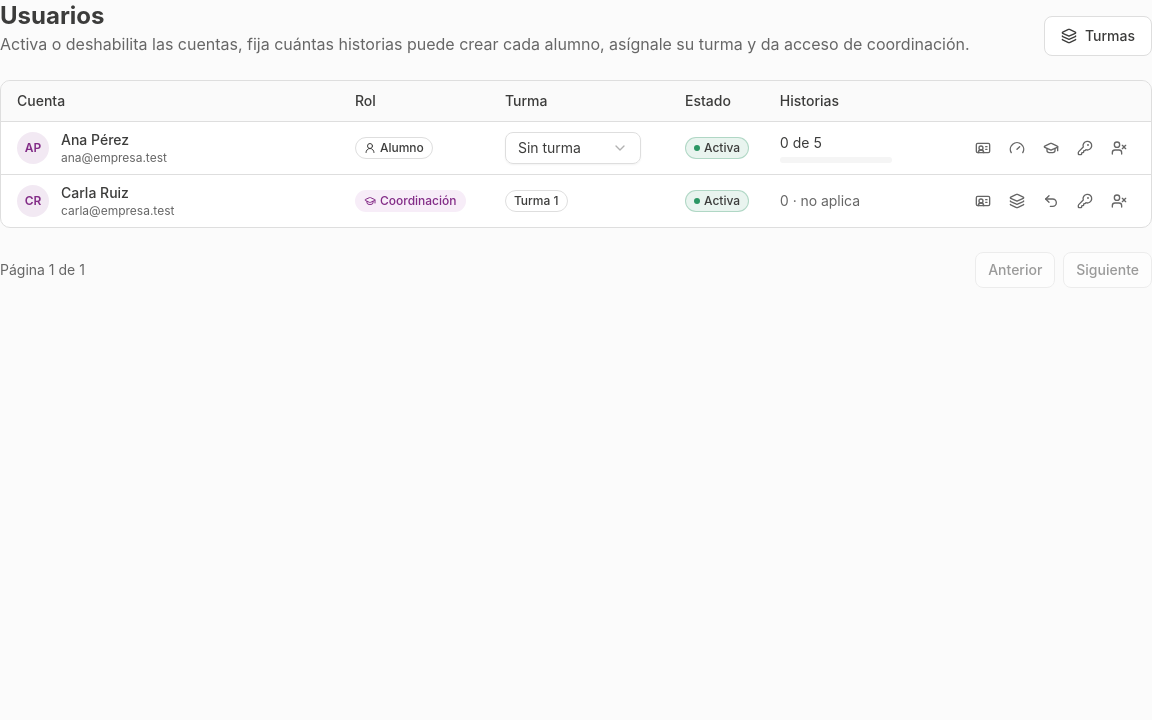
Scenario: users — turmas y coordinación en la pantalla Usuarios › Volver a alumno tras confirmar
Expected: the row "Carla Ruiz" is shown, [1,174,1151,226]
Click the button named "Volver a alumno": (1051, 200) [1035,184,1067,216]
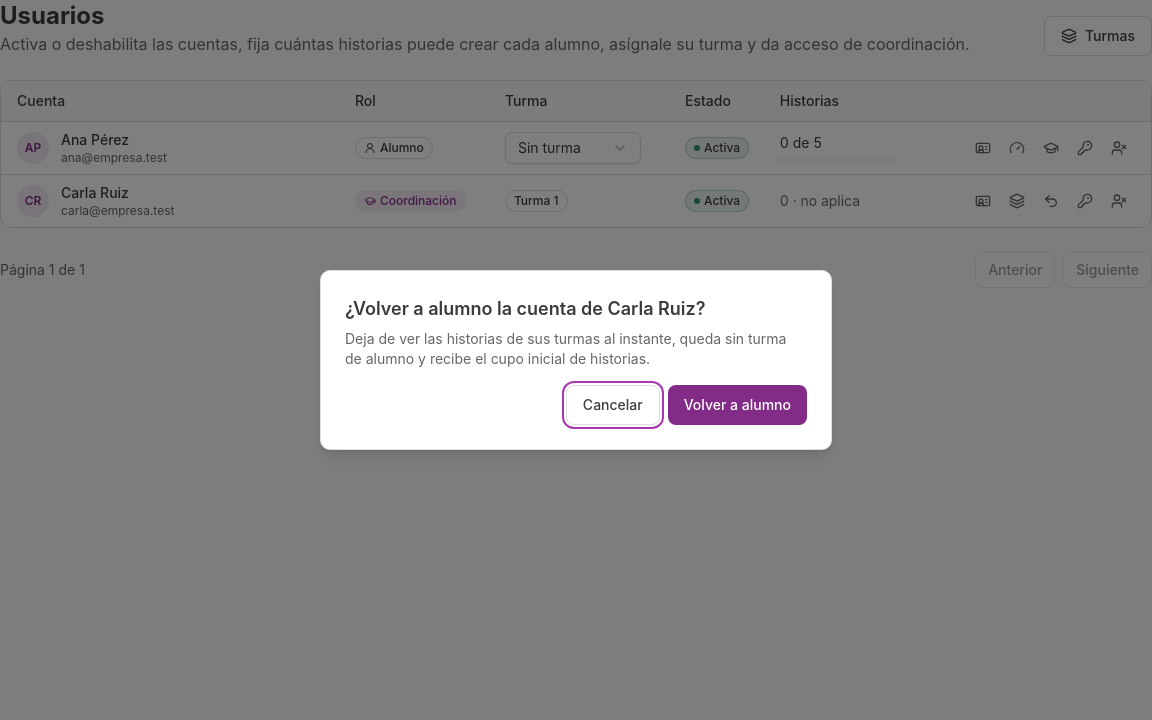
Click the button "Volver a alumno": (737, 405) [668,385,807,425]
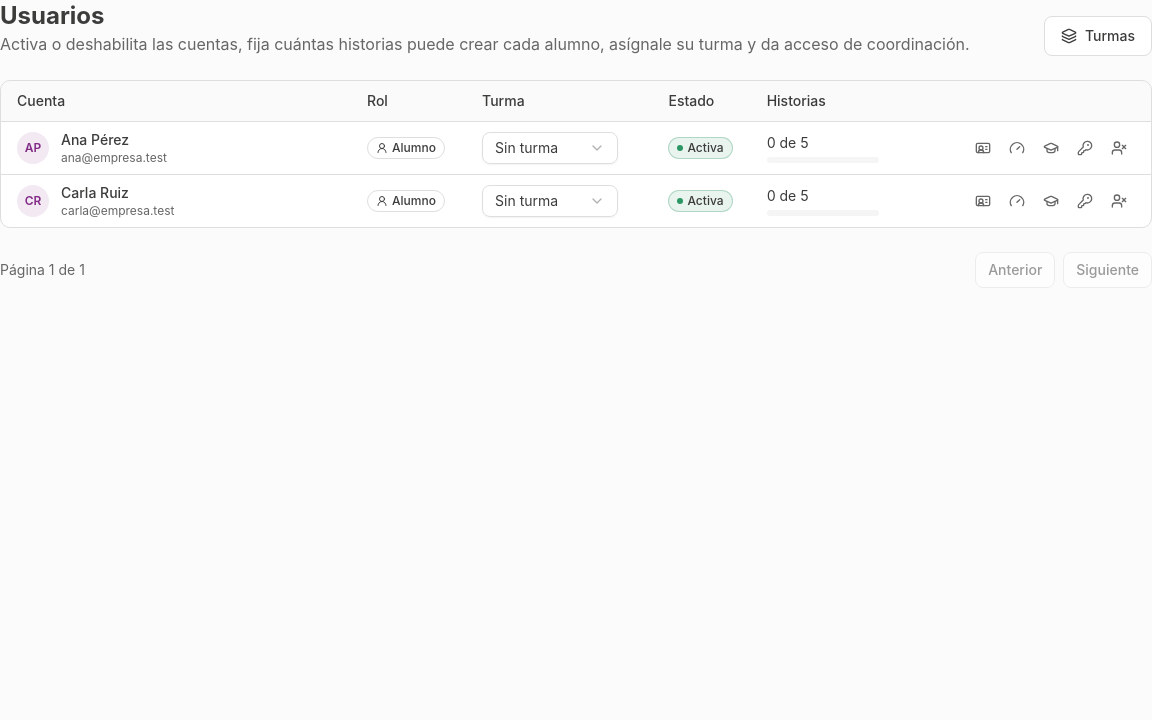
Expected: the text "Alumno" in the row of "Carla Ruiz" is shown, [392,192,436,208]
